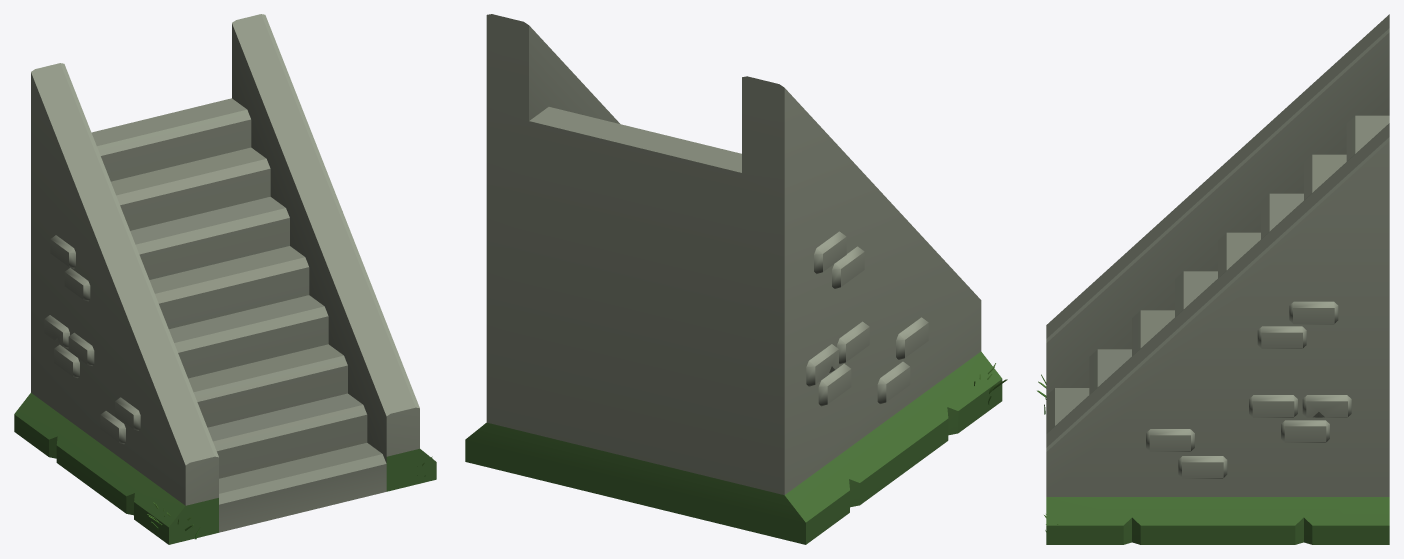
Rendered from stairs_up.fbx.
3 renders of one model, left to right at view 1: azimuth 30°, elevation 25°; view 2: azimuth 150°, elevation 25°; view 3: azimuth 270°, elevation 25°, orthographic. The views are drawn at different scales.
Visible parts, largest first — view 1: stairs_up; view 2: stairs_up; view 3: stairs_up.
Part boxes in pixels (x1,y1,x2,y2): stairs_up: (14,14,436,544); stairs_up: (465,14,1007,544); stairs_up: (1037,14,1389,544).
Size of the model in its own units: 4.19 by 5.1 by 4.12.
